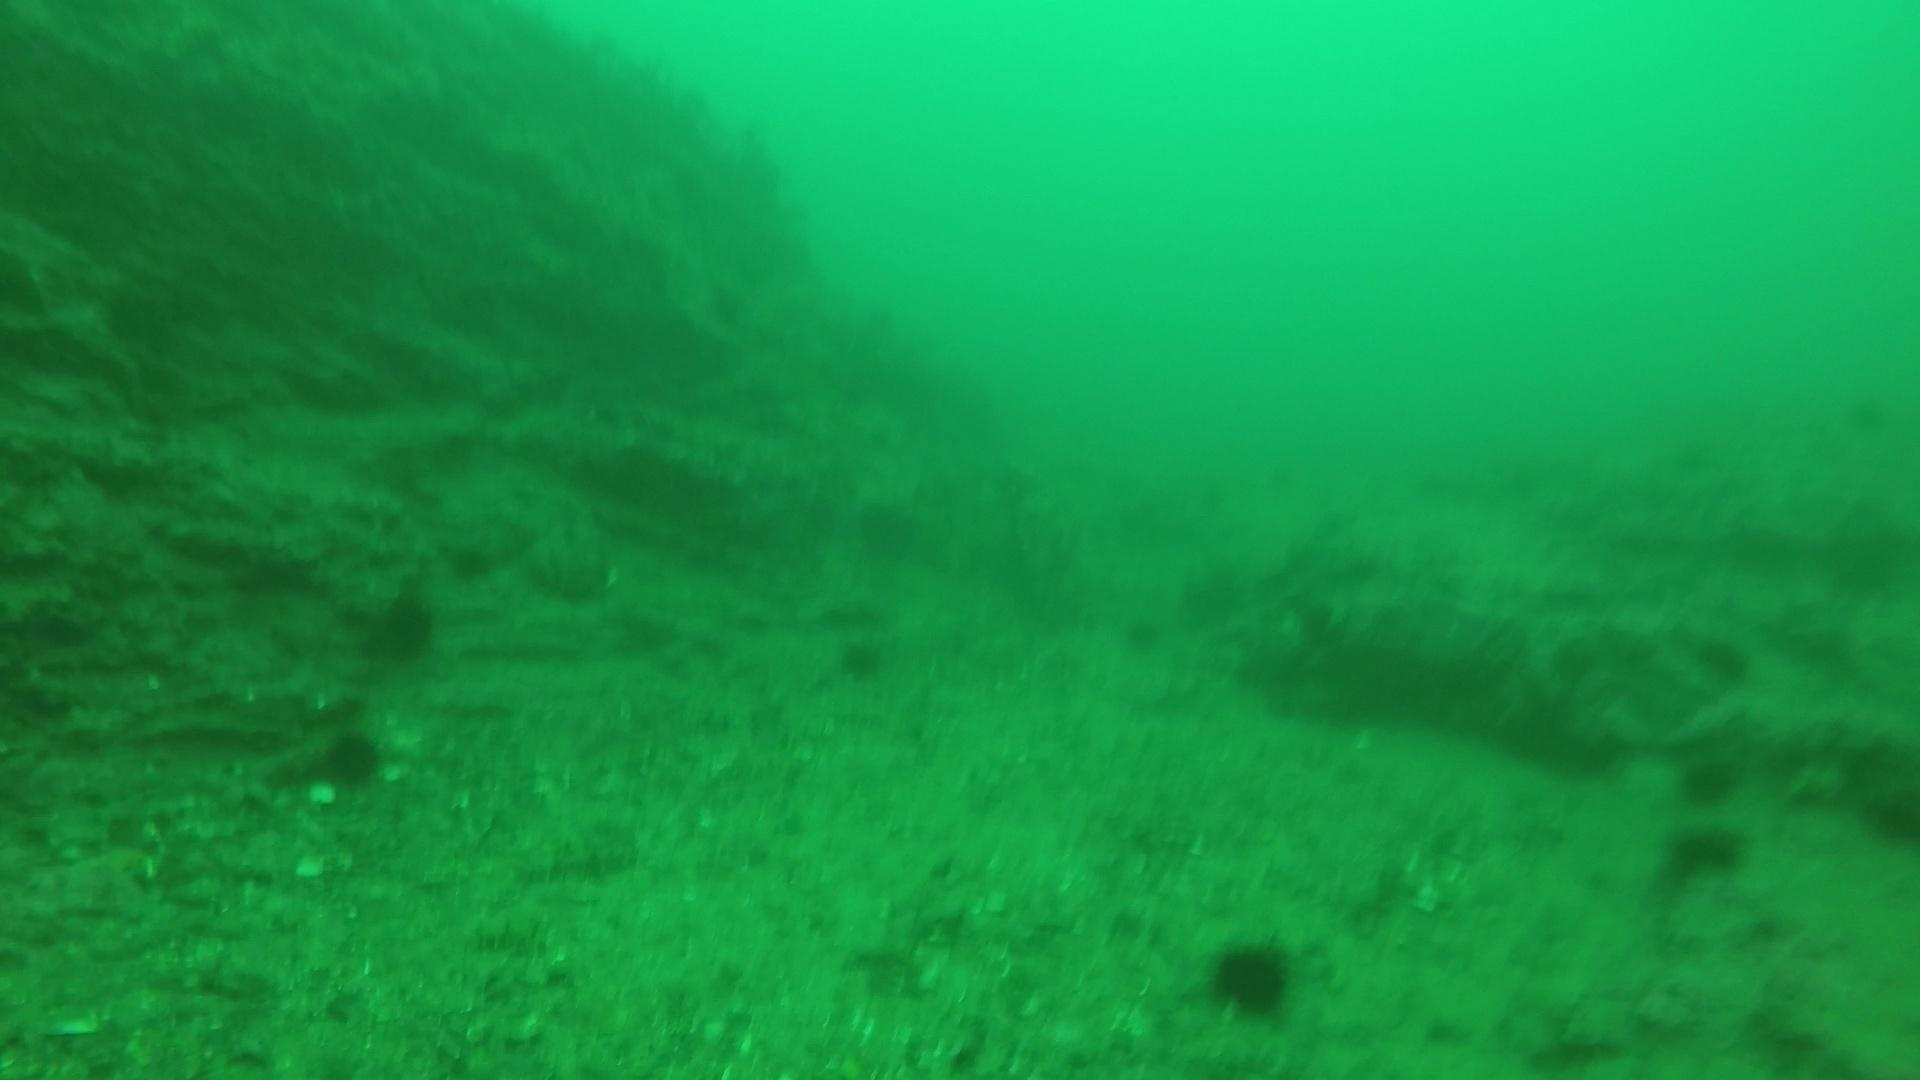echinus: (1201, 931, 1303, 1026), (357, 584, 444, 669), (1655, 815, 1751, 889), (307, 721, 394, 798), (1669, 746, 1745, 812), (1692, 630, 1767, 695), (841, 491, 916, 555), (831, 632, 893, 687)
holothurian: (514, 835, 650, 891), (460, 913, 560, 953)
